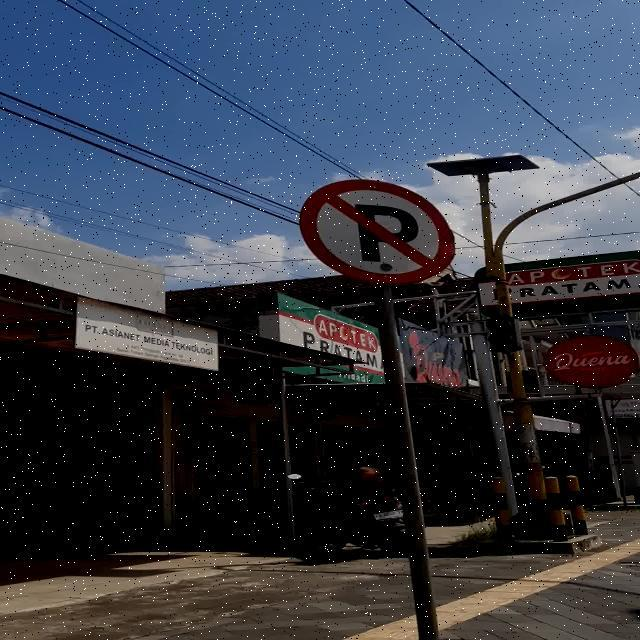Dilarang Parkir: (298, 178, 455, 284)
